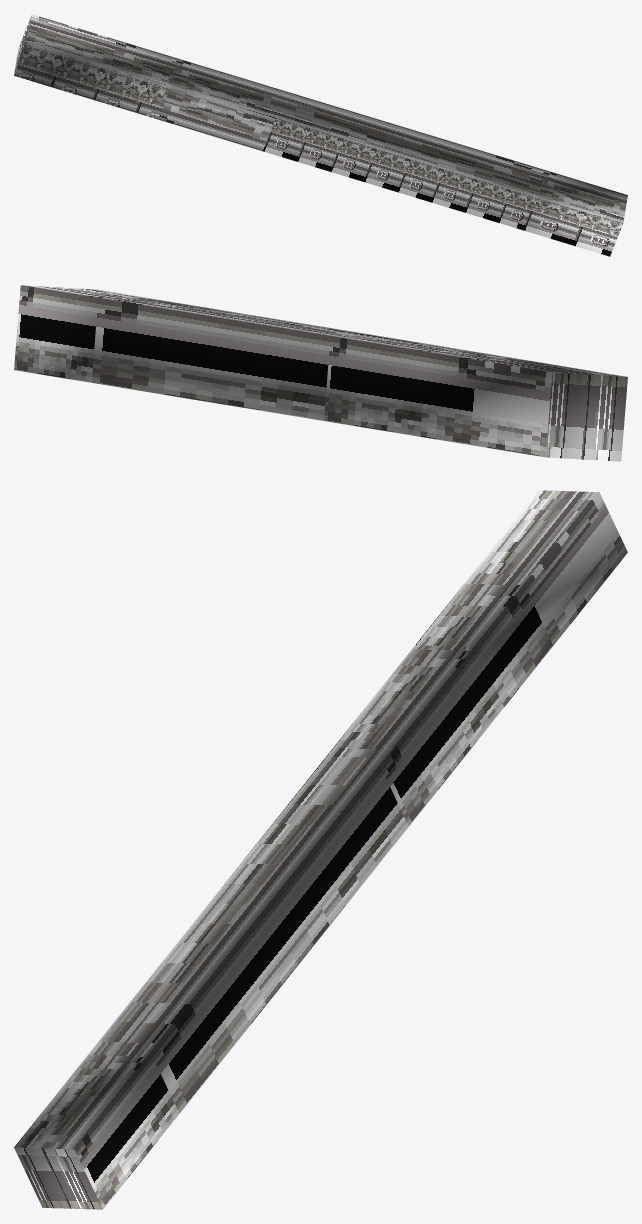
File: 2732gakki01_e.gltf
The picture shows the model from 3 angles, top to bottom: view 1: azimuth 30°, elevation 25°; view 2: azimuth 150°, elevation 25°; view 3: azimuth 270°, elevation 25°; orthographic projection. The views are drawn at different scales.
Parts seen in each view (by area): view 1: 2732gakki01_e; view 2: 2732gakki01_e; view 3: 2732gakki01_e.
Part boxes in pixels (bbox=[...]): 2732gakki01_e: bbox=[14, 14, 627, 256]; 2732gakki01_e: bbox=[14, 285, 627, 461]; 2732gakki01_e: bbox=[14, 490, 627, 1209].
Size of the model in its own units: 0.8381 by 0.3809 by 0.5644.
1 material, 1 textured.
